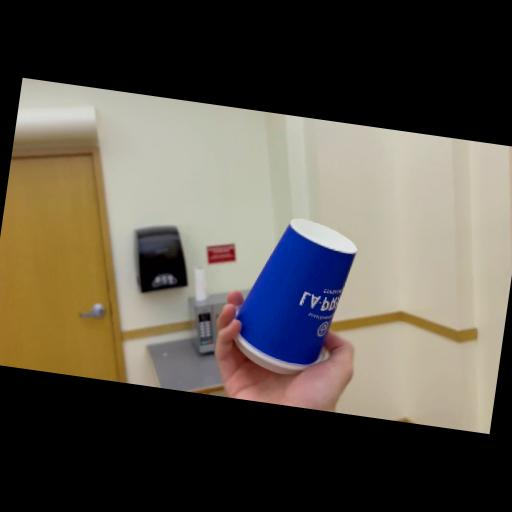lp_paper_cup: (228, 212, 361, 382)
